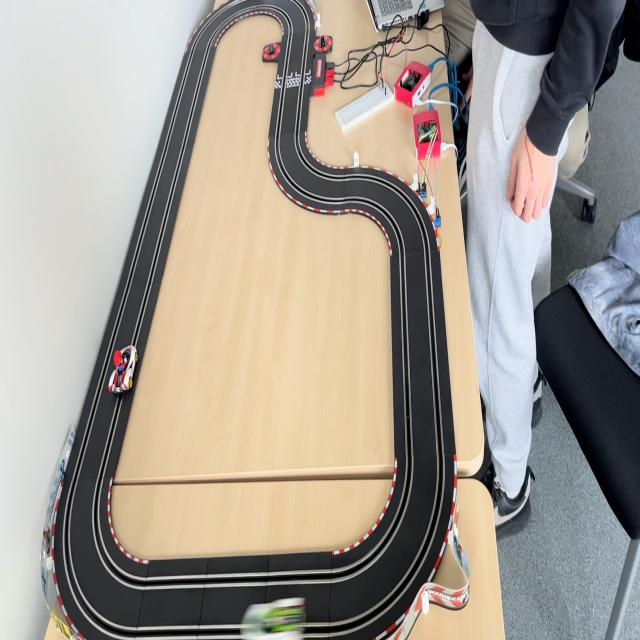mario: (105, 339, 139, 398)
yoshi: (236, 596, 315, 640)
